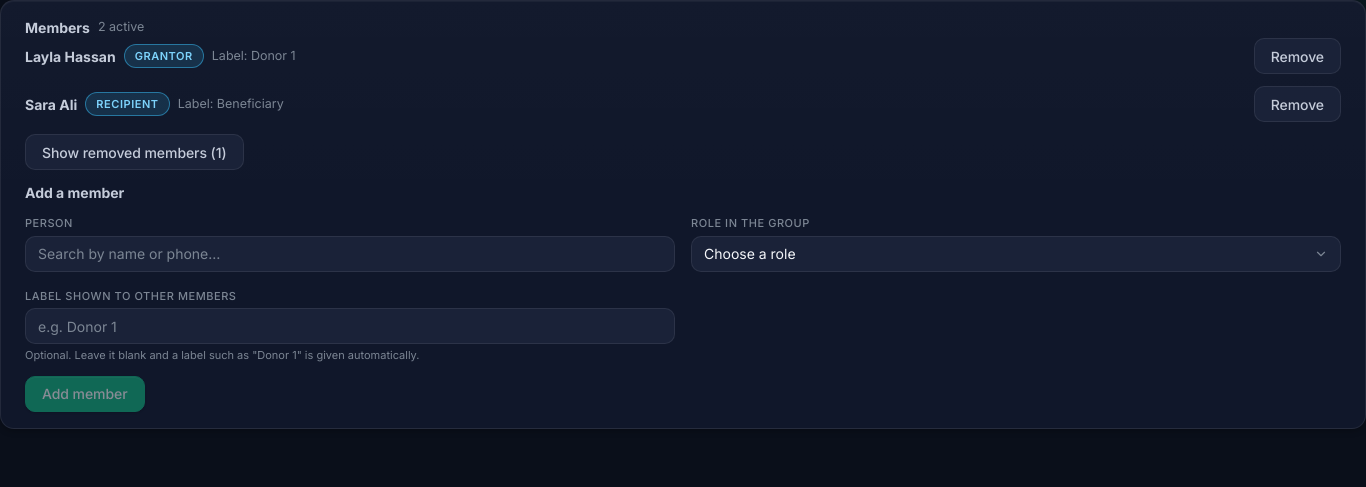
Scenario: GroupRoster — add › blocks someone who is already an active member before anything is sent
Type "Layla Hassan" into the dropdown with placeholder "Search by name or phone…". click: [350, 254]
box: x1=25 y1=236 x2=675 y2=272
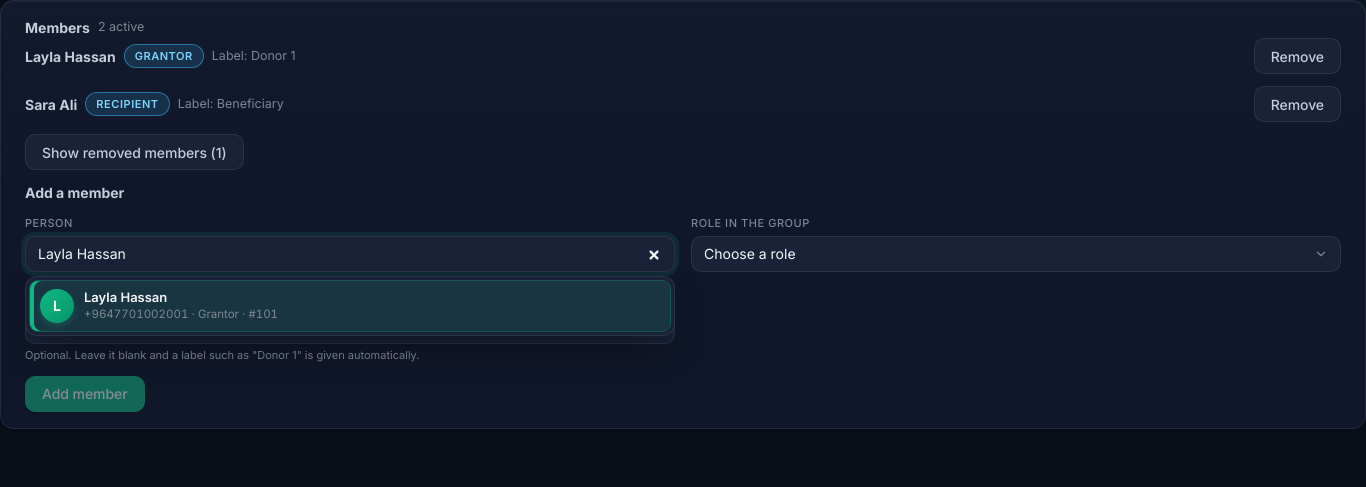
Click the option "L Layla Hassan +9647701002001 · Grantor · #101". click: [57, 306]
box: x1=30 y1=280 x2=670 y2=331
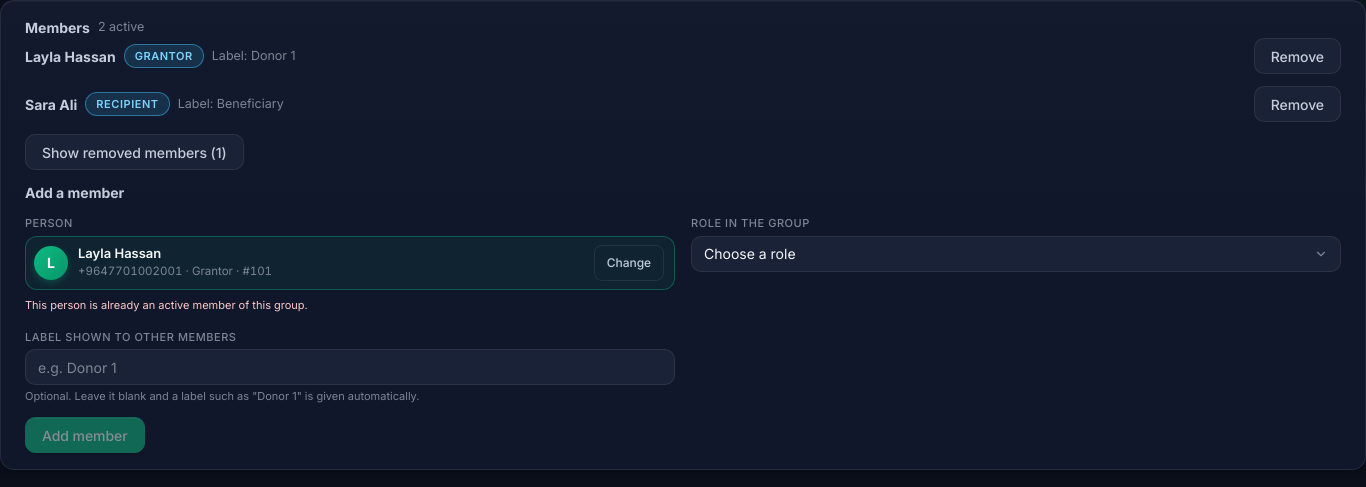
Check: the button "Add member" is disabled, box x1=25 y1=417 x2=144 y2=453
Check: the text "This person is already an active member of this group." is shown, box x1=25 y1=298 x2=308 y2=312
